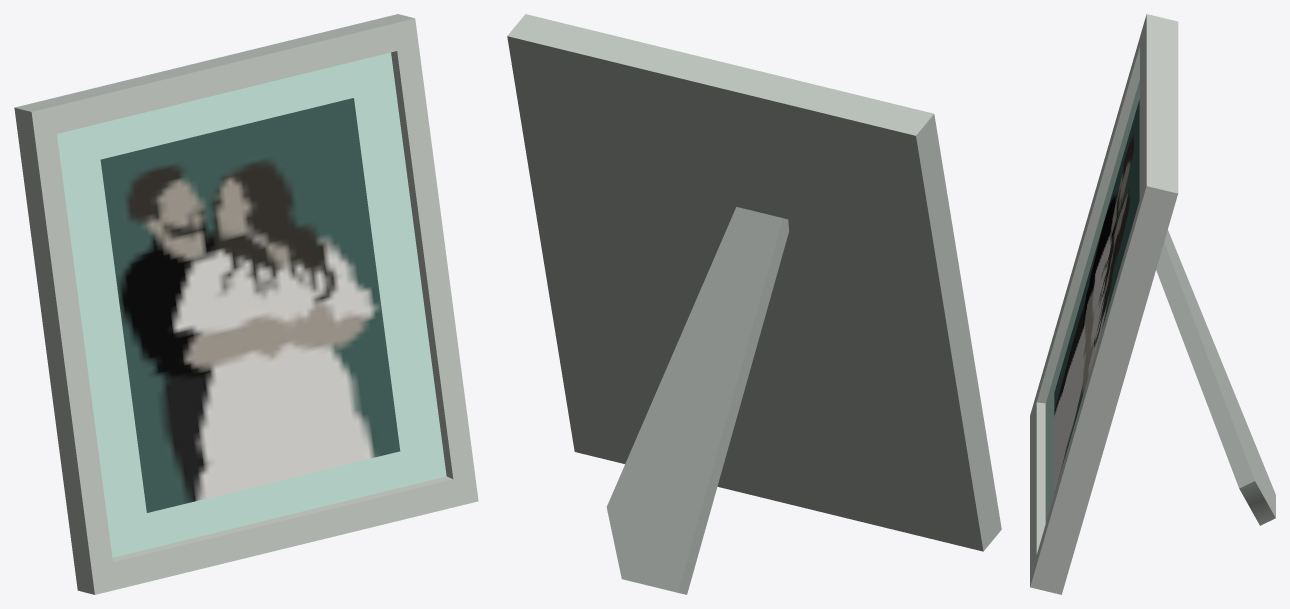
File: SM_Prop_FamilyPhoto_01.obj
The picture shows the model from 3 angles, left to right: view 1: azimuth 30°, elevation 25°; view 2: azimuth 150°, elevation 25°; view 3: azimuth 270°, elevation 25°; orthographic projection. The views are drawn at different scales.
Parts seen in each view (by area): view 1: SM_Prop_FamilyPhoto_01_Mat_SwatchOverlay_Farm_Main_01_Inst; view 2: SM_Prop_FamilyPhoto_01_Mat_SwatchOverlay_Farm_Main_01_Inst; view 3: SM_Prop_FamilyPhoto_01_Mat_SwatchOverlay_Farm_Main_01_Inst.
Part boxes in pixels (<box>): SM_Prop_FamilyPhoto_01_Mat_SwatchOverlay_Farm_Main_01_Inst: <box>14,14,478,594</box>; SM_Prop_FamilyPhoto_01_Mat_SwatchOverlay_Farm_Main_01_Inst: <box>507,14,1001,594</box>; SM_Prop_FamilyPhoto_01_Mat_SwatchOverlay_Farm_Main_01_Inst: <box>1030,14,1275,594</box>.
Size of the model in its own units: 0.3476 by 0.3879 by 0.2097.
Materials: 1 (1 with a texture image).
